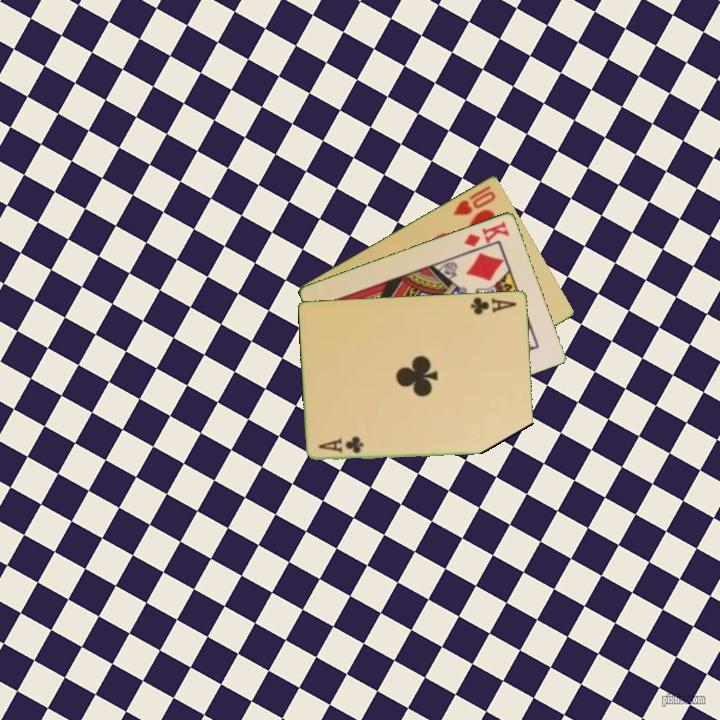10h: (450, 181, 499, 218)
Ac: (468, 293, 519, 317), (315, 433, 366, 456)
Kd: (460, 217, 512, 249)
